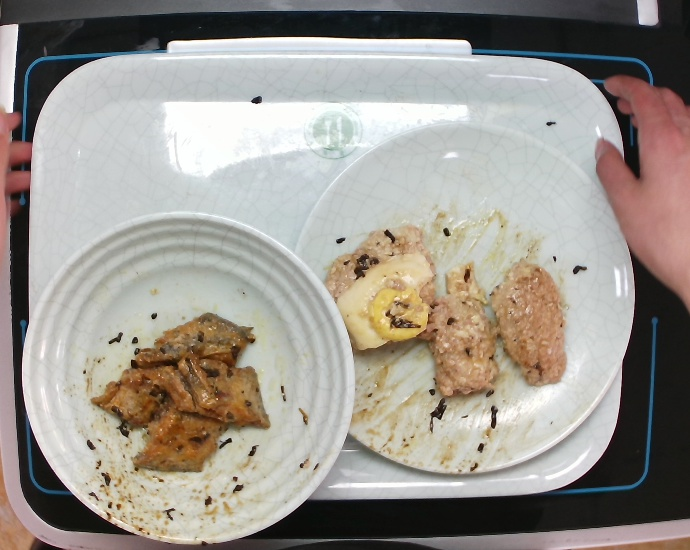JYsf-Da_Tang_Wan: (20, 208, 356, 547)
JYsf-Da_Yuan_Pan: (291, 118, 639, 477)
